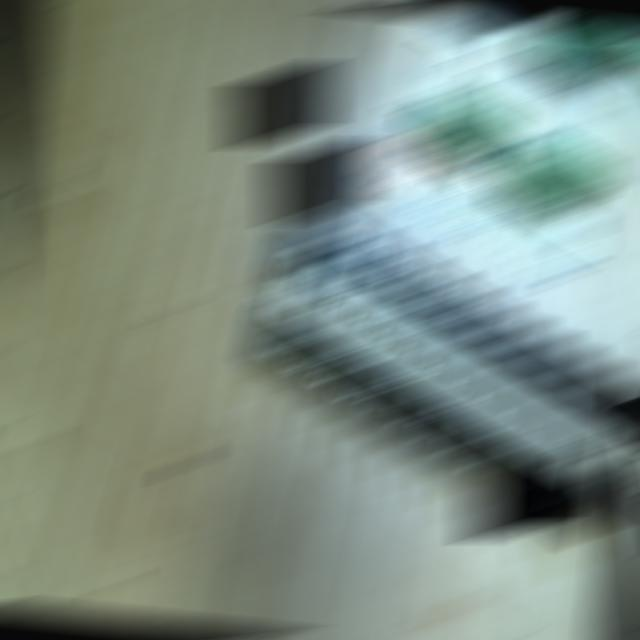Flathead_Block: (226, 207, 640, 535)
Terminal_1: (412, 87, 516, 164), (503, 137, 608, 209)
